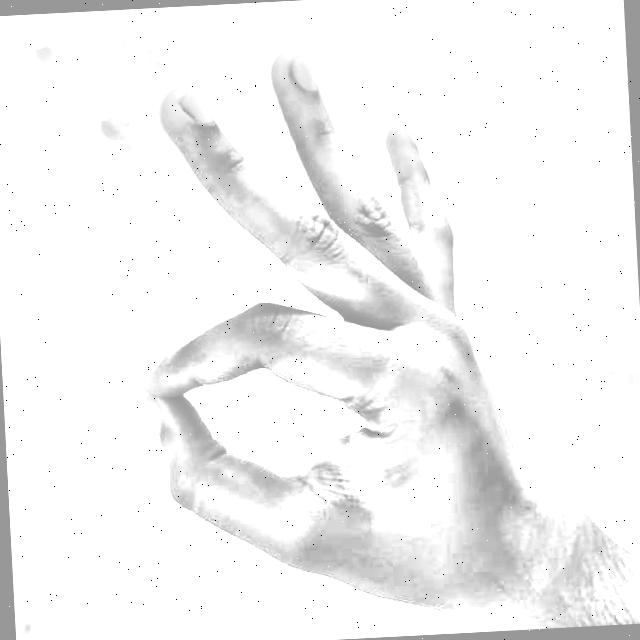Ca: (104, 27, 576, 640)
